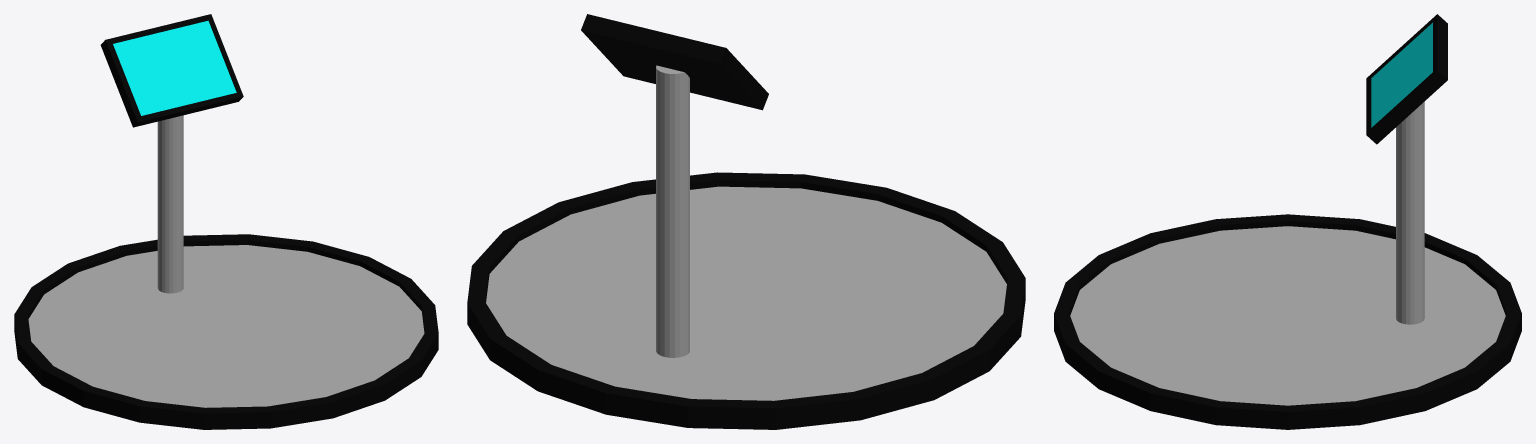
Rendered from CatalystPlatform.fbx.
The picture shows the model from 3 angles, left to right: view 1: azimuth 30°, elevation 25°; view 2: azimuth 150°, elevation 25°; view 3: azimuth 270°, elevation 25°; orthographic projection. The views are drawn at different scales.
Visible parts, largest first — view 1: pCube4; view 2: pCube4; view 3: pCube4.
Boxes of the visible parts, x1,y1,x2,y2 form: pCube4: (14, 14, 438, 429); pCube4: (467, 14, 1025, 429); pCube4: (1054, 14, 1521, 429).
Size of the model in its own units: 4.65 by 3.2 by 4.65.
